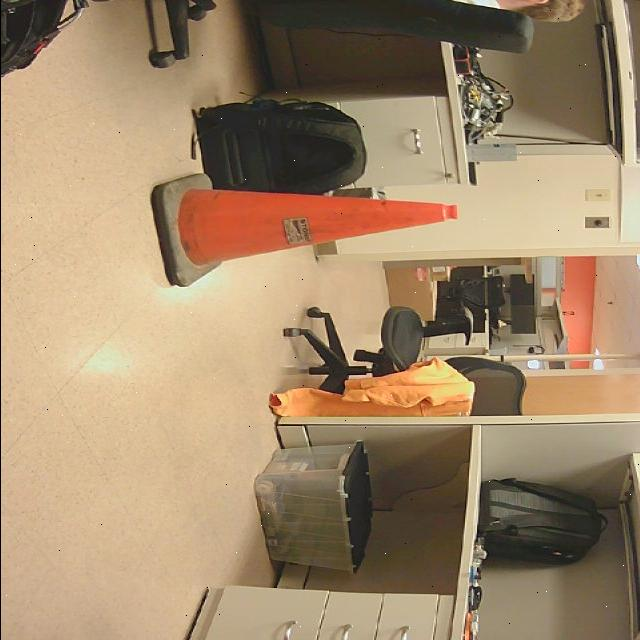traffic cone: (148, 174, 458, 289)
